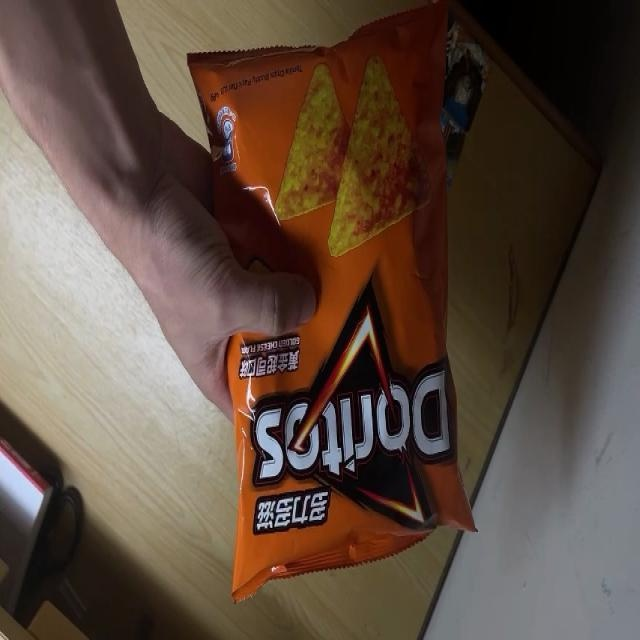Doritos: (186, 11, 477, 607)
